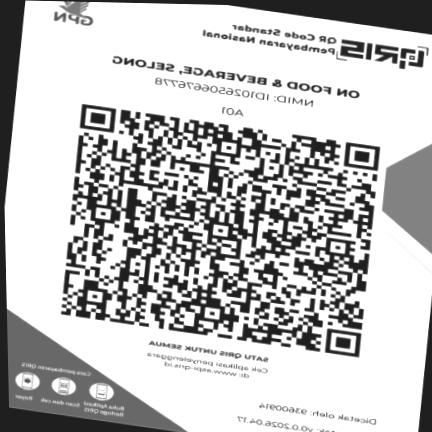Qris-Positioning: (5, 1, 432, 432)
